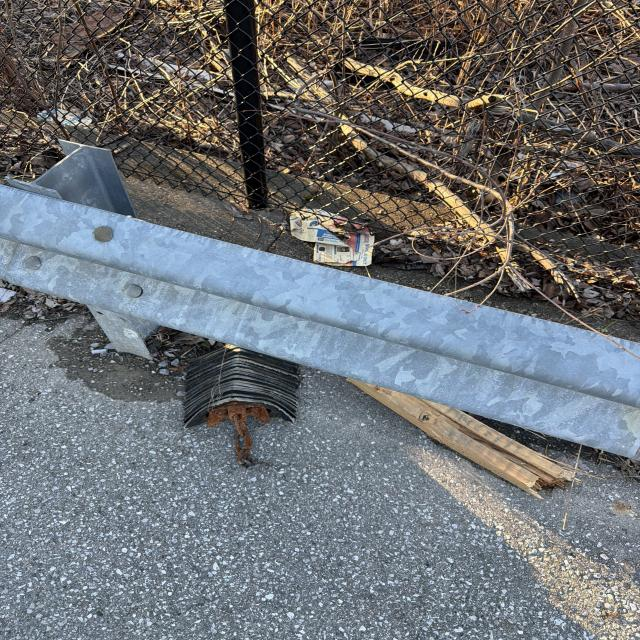Guard rail: (8, 170, 608, 430)
